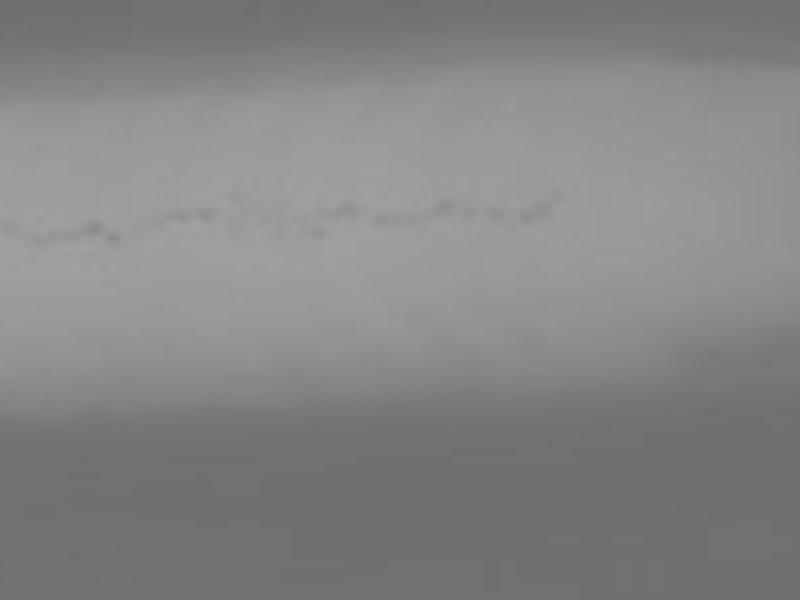defect: (27, 229, 84, 249), (330, 194, 361, 227), (376, 210, 429, 228), (527, 199, 556, 223), (225, 184, 250, 210), (195, 205, 218, 228), (81, 217, 105, 238), (167, 203, 189, 225), (307, 225, 334, 242), (430, 196, 450, 218), (3, 217, 23, 237), (461, 205, 481, 224), (484, 204, 503, 224), (515, 208, 535, 225), (107, 231, 123, 248), (256, 207, 273, 223)
